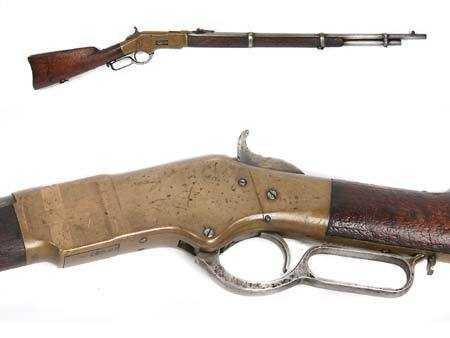heavyweapon: (0, 166, 450, 313), (24, 20, 441, 118)
